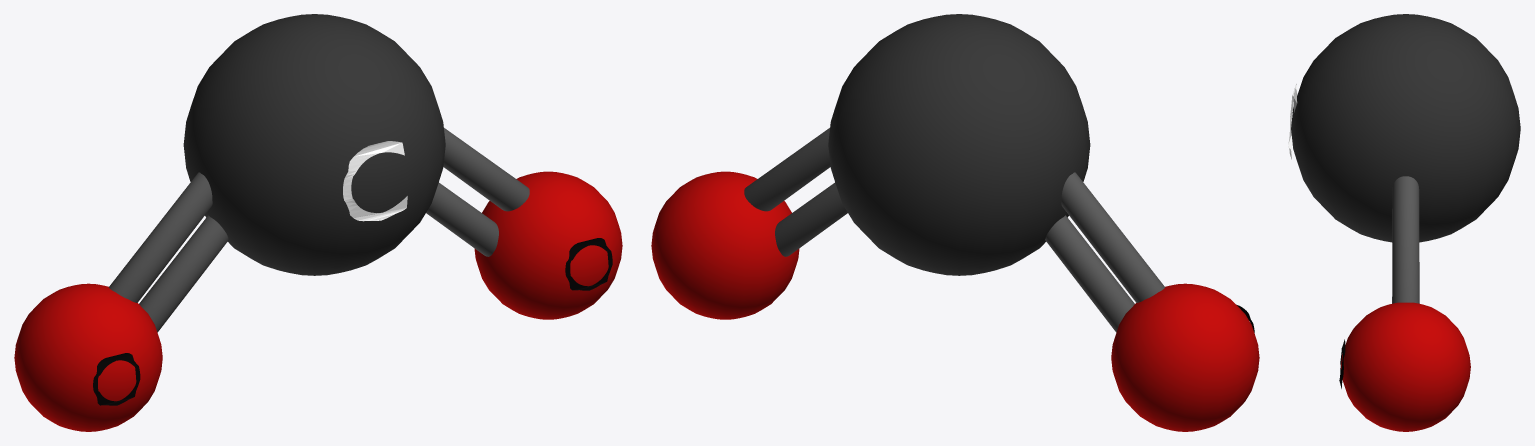
3 views of the same model, side by side, from view 1: azimuth 30°, elevation 25°; view 2: azimuth 150°, elevation 25°; view 3: azimuth 270°, elevation 25° (orthographic). The views are drawn at different scales.
Visible parts, largest first — view 1: Sphere.020, Sphere.018, Sphere.019, Cylinder.015, Cylinder.016, Cylinder.026, Cylinder.004, Text.020, Text.005, Text.009; view 2: Sphere.020, Sphere.018, Sphere.019, Cylinder.015, Cylinder.016, Cylinder.026, Cylinder.004; view 3: Sphere.020, Sphere.019, Cylinder.026, Text.020.
Boxes of the visible parts, x1,y1,x2,y2 form: Sphere.020: [183, 14, 445, 275]; Sphere.018: [14, 283, 162, 431]; Sphere.019: [474, 171, 622, 319]; Cylinder.015: [109, 172, 212, 302]; Cylinder.016: [139, 215, 228, 332]; Cylinder.026: [443, 128, 529, 211]; Cylinder.004: [426, 182, 498, 256]; Text.020: [343, 141, 407, 221]; Text.005: [565, 238, 612, 290]; Text.009: [93, 353, 140, 405]; Sphere.020: [828, 14, 1090, 275]; Sphere.018: [1111, 283, 1259, 431]; Sphere.019: [651, 171, 799, 319]; Cylinder.015: [1061, 172, 1164, 302]; Cylinder.016: [1045, 215, 1134, 332]; Cylinder.026: [744, 128, 830, 211]; Cylinder.004: [775, 182, 847, 256]; Sphere.020: [1291, 14, 1520, 242]; Sphere.019: [1341, 302, 1470, 431]; Cylinder.026: [1392, 176, 1419, 303]; Text.020: [1288, 84, 1297, 159].
Bounding box in the file's own units: 361 × 202 × 141.
